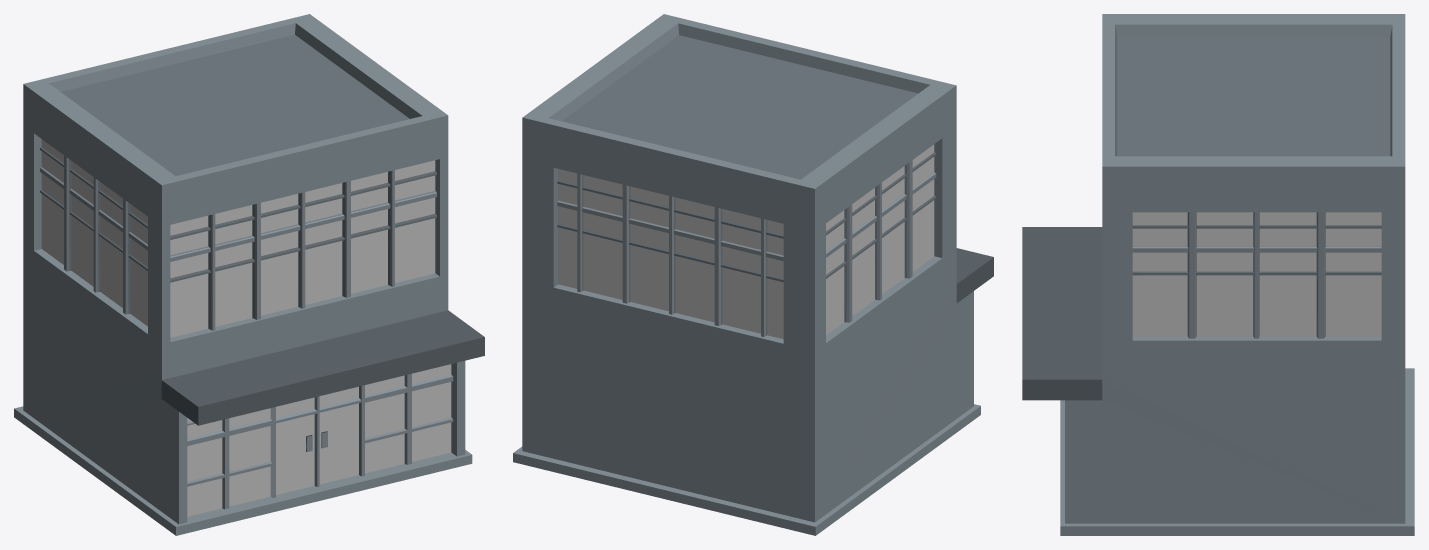
The model's file is SM_Gen_Bld_Background_01.fbx.
3 views of the same model, side by side, from view 1: azimuth 30°, elevation 25°; view 2: azimuth 150°, elevation 25°; view 3: azimuth 270°, elevation 25° (orthographic). The views are drawn at different scales.
Visible parts, largest first — view 1: SM_Gen_Bld_Background_01; view 2: SM_Gen_Bld_Background_01; view 3: SM_Gen_Bld_Background_01.
Boxes of the visible parts, left/top/right/bottom form: SM_Gen_Bld_Background_01: left=14, top=14, right=484, bottom=535; SM_Gen_Bld_Background_01: left=513, top=14, right=993, bottom=535; SM_Gen_Bld_Background_01: left=1022, top=14, right=1414, bottom=535.
Bounding box in the file's own units: 824 × 891 × 864.
